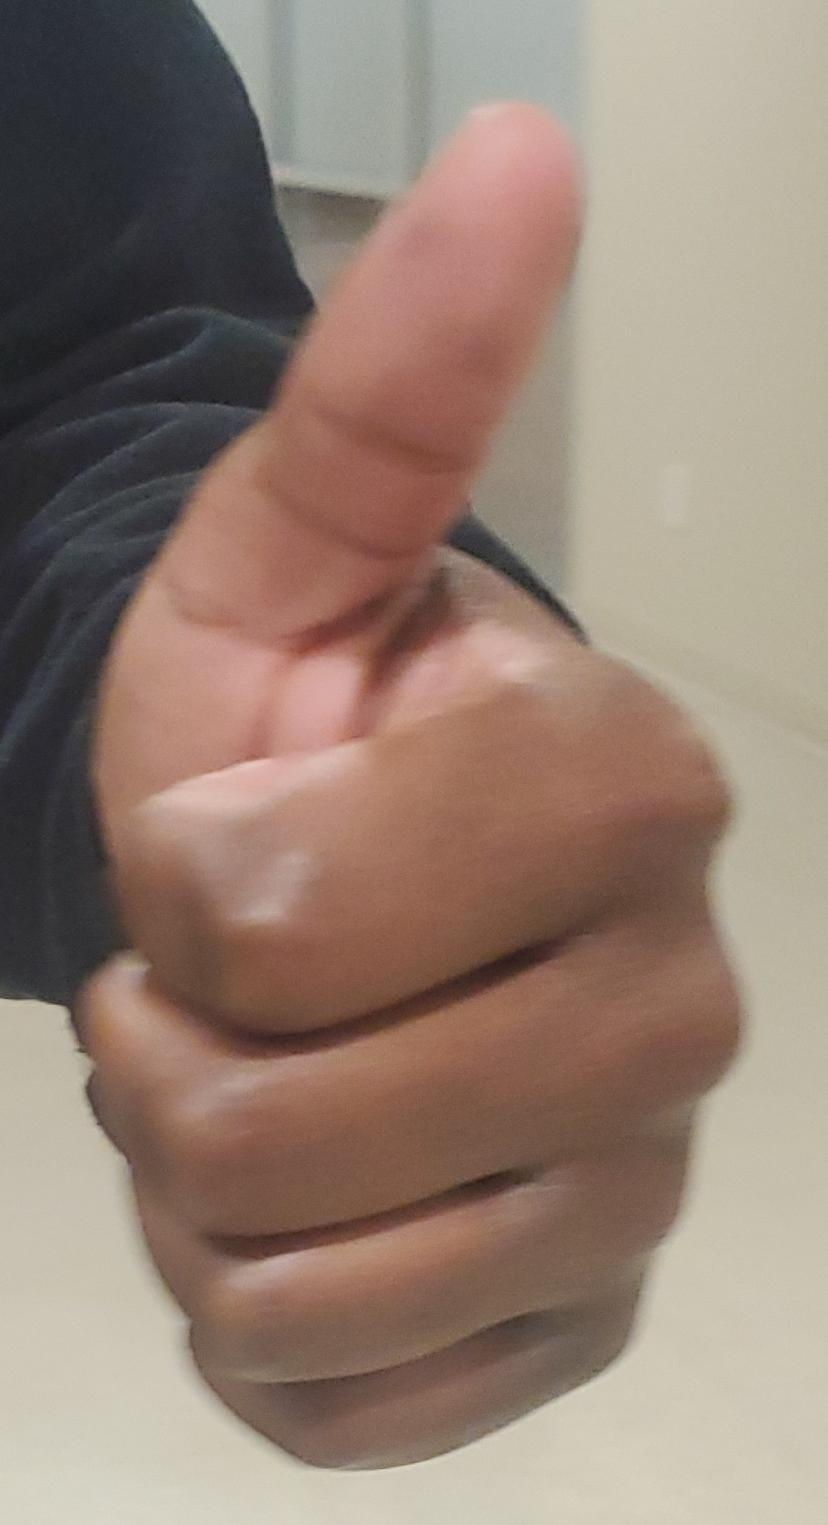up: (0, 1, 828, 1525)
